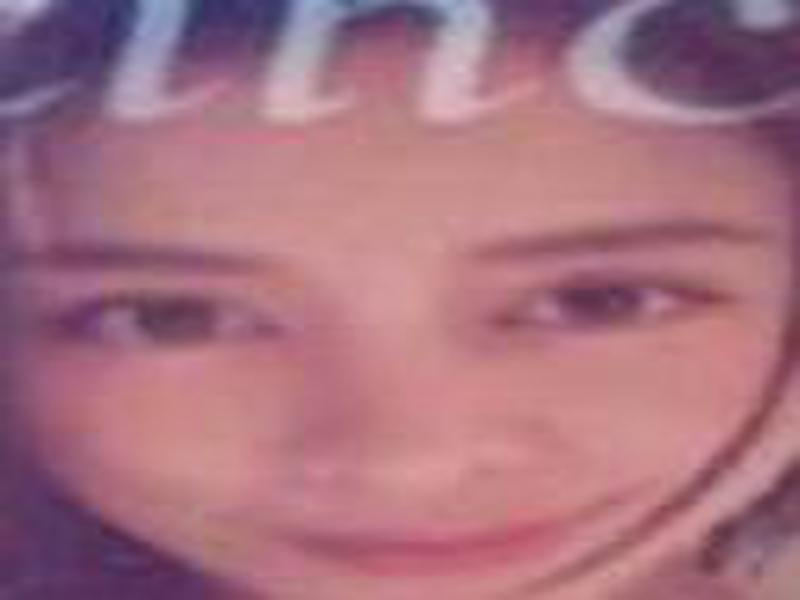without_mask: (21, 70, 770, 595)
